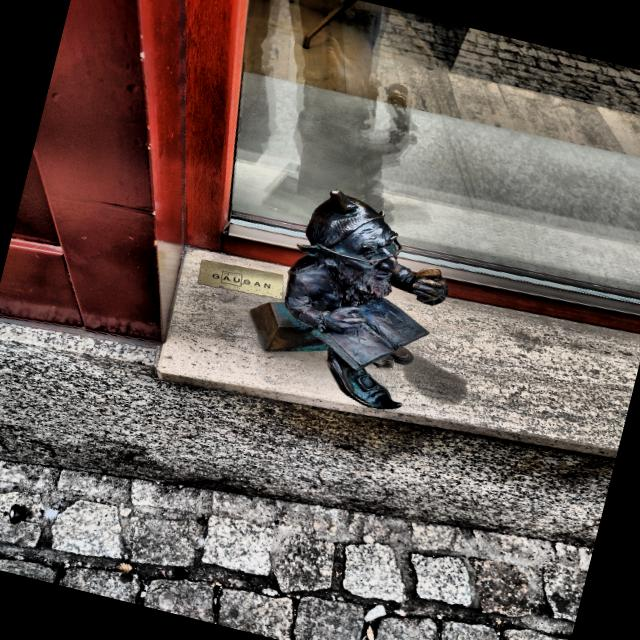Gaugan: (250, 190, 448, 409)
